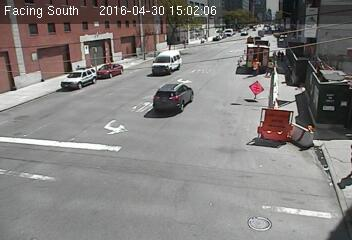neg: (185, 137, 213, 174), (260, 91, 279, 117), (83, 152, 102, 178), (168, 90, 183, 110), (132, 68, 145, 84), (179, 50, 191, 66), (39, 131, 51, 146)
pos: (263, 57, 279, 78), (248, 56, 263, 77), (275, 49, 282, 58), (280, 50, 287, 58)
